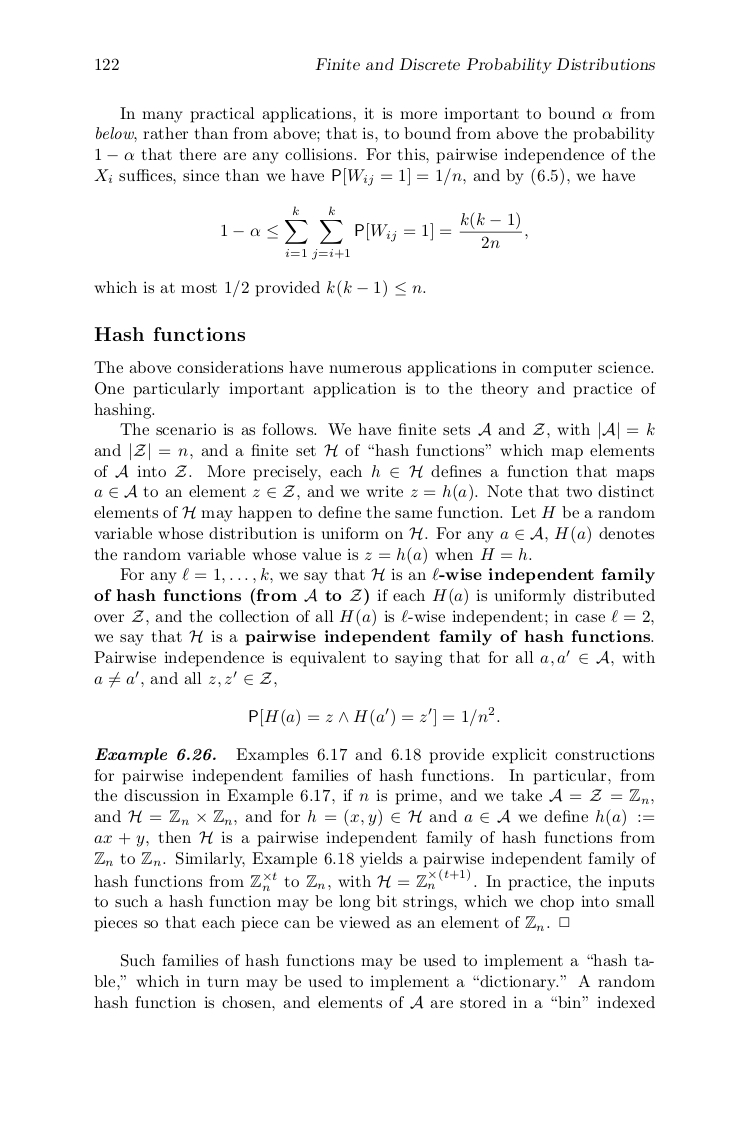formula: (221, 205, 527, 260), (249, 706, 499, 727)
